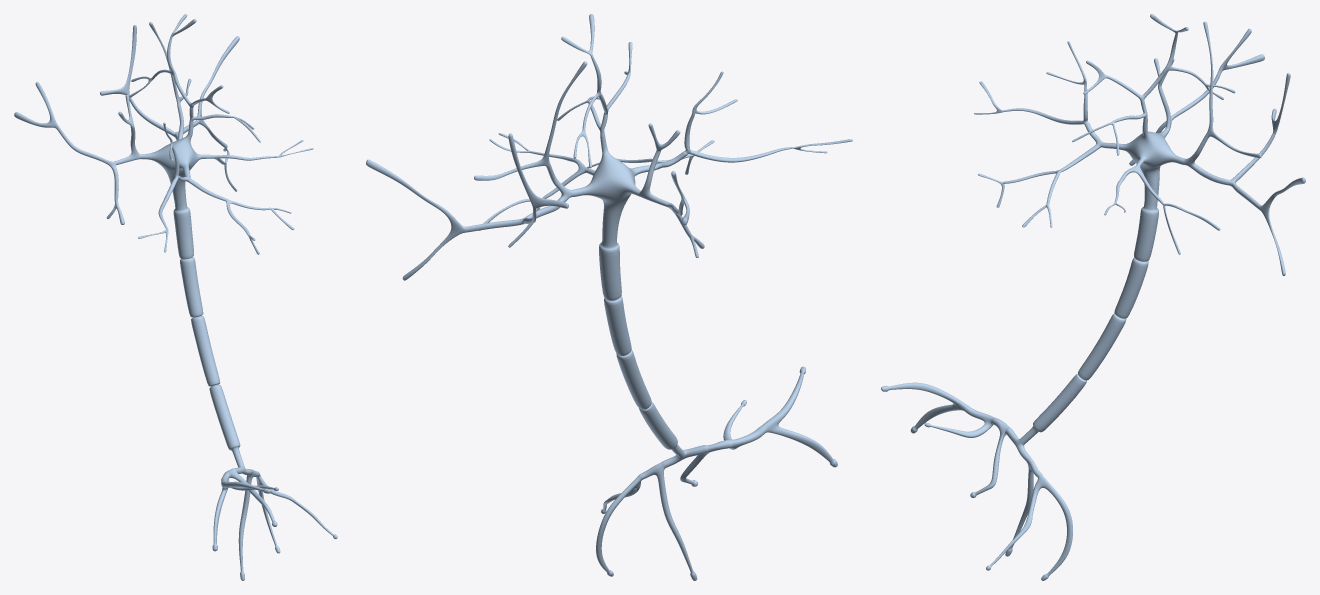
File: NEURON.glb
3 renders of one model, left to right at view 1: azimuth 30°, elevation 25°; view 2: azimuth 150°, elevation 25°; view 3: azimuth 270°, elevation 25°, orthographic. The views are drawn at different scales.
Visible parts, largest first — view 1: Box01; view 2: Box01; view 3: Box01.
Boxes of the visible parts, bbox=[...] form: Box01: bbox=[14, 14, 337, 580]; Box01: bbox=[366, 14, 852, 580]; Box01: bbox=[881, 14, 1305, 580].
Size of the model in its own units: 3.38 by 6.57 by 4.59.
